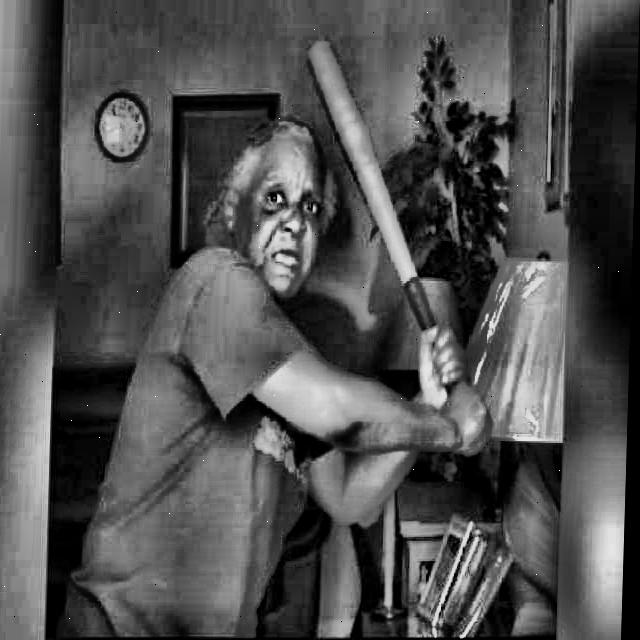tongkat pemukul: (296, 21, 508, 466)
